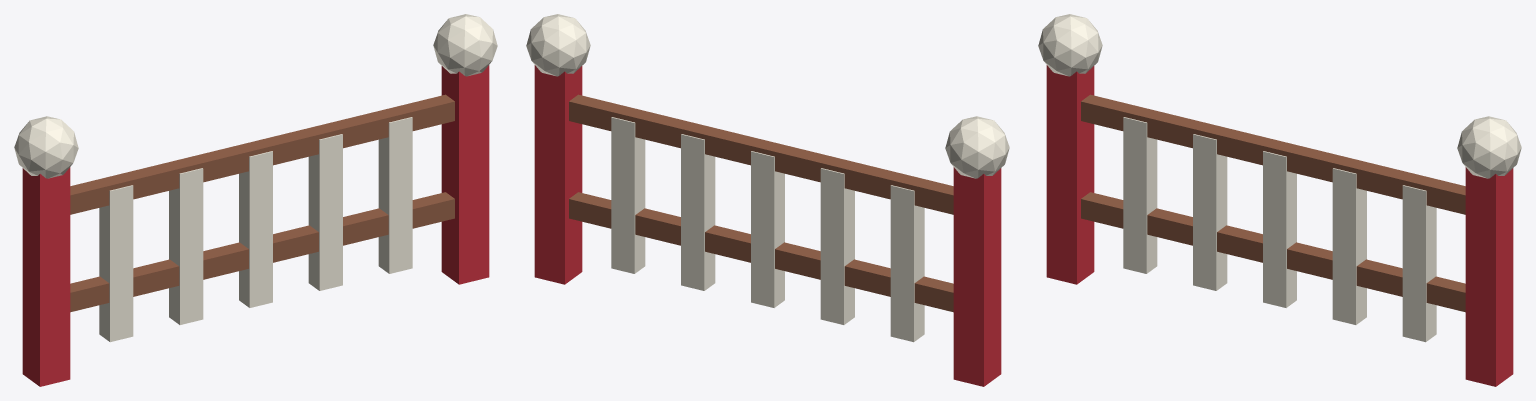
The model's file is fence_red.glb.
The picture shows the model from 3 angles, left to right: view 1: azimuth 30°, elevation 25°; view 2: azimuth 150°, elevation 25°; view 3: azimuth 330°, elevation 25°; orthographic projection.
Parts seen in each view (by area): view 1: snowy-fence; view 2: snowy-fence; view 3: snowy-fence.
Boxes of the visible parts, left/top/right/bottom form: snowy-fence: left=14, top=14, right=497, bottom=386; snowy-fence: left=526, top=14, right=1009, bottom=386; snowy-fence: left=1038, top=14, right=1521, bottom=386.
Bounding box in the file's own units: 2.04 × 1.06 × 0.24.
